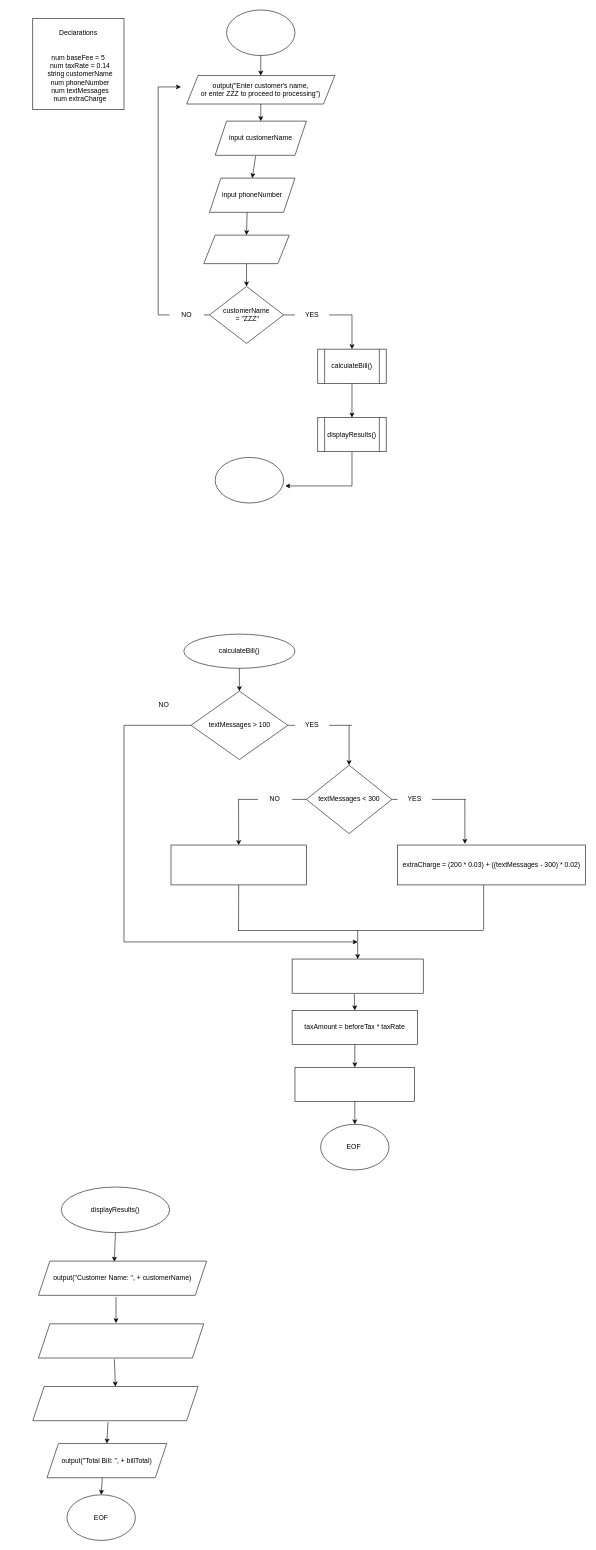
This 596x1550 diagram has some shape labels left out. Each missing label, with the centre of its shape:
beforeTax = baseFee + extraCharge: [357,975]
billTotal = beforeTax + taxAmount: [354,1084]
END: [249,480]
extraCharge = (textMessages - 100) * 0.03: [238,864]
input textMessages: [246,249]
output("Phone Number: ", + phoneNumber): [121,1340]
output("Text Messages Sent: ", + textMessages): [115,1403]
START: [260,32]
